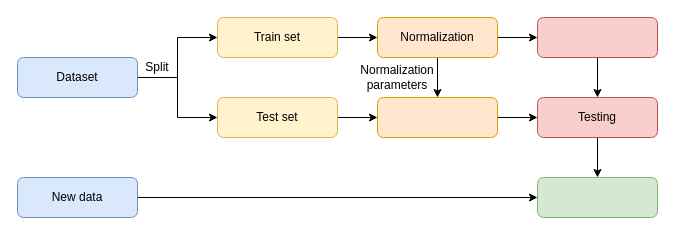
Image size: 675x235. Some labels were removed from this diagram. Each missing label, with the box of its shape:
Normalize: (376, 96, 498, 138)
Predictions: (536, 176, 658, 218)
Training: (536, 16, 658, 58)
